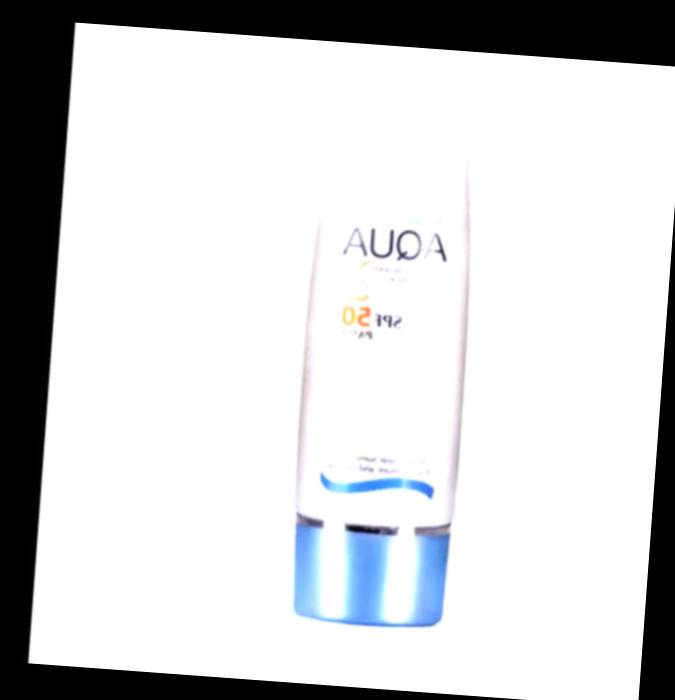cosmetic: (277, 101, 484, 629)
